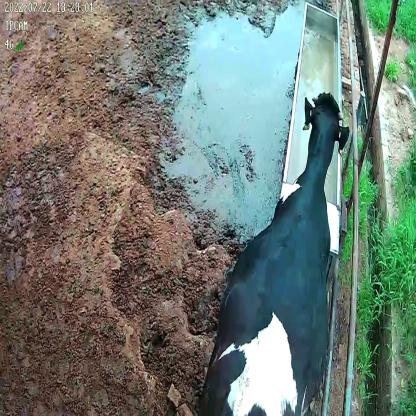cow: (202, 88, 350, 416)
